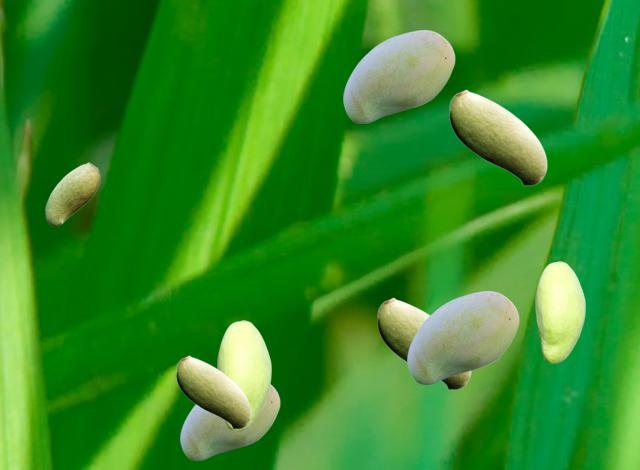green_mango: (343, 30, 454, 122), (407, 291, 518, 383), (449, 89, 546, 185), (377, 297, 470, 389), (180, 384, 279, 459), (217, 320, 270, 430), (176, 355, 250, 428), (535, 261, 584, 362), (45, 162, 99, 225)
